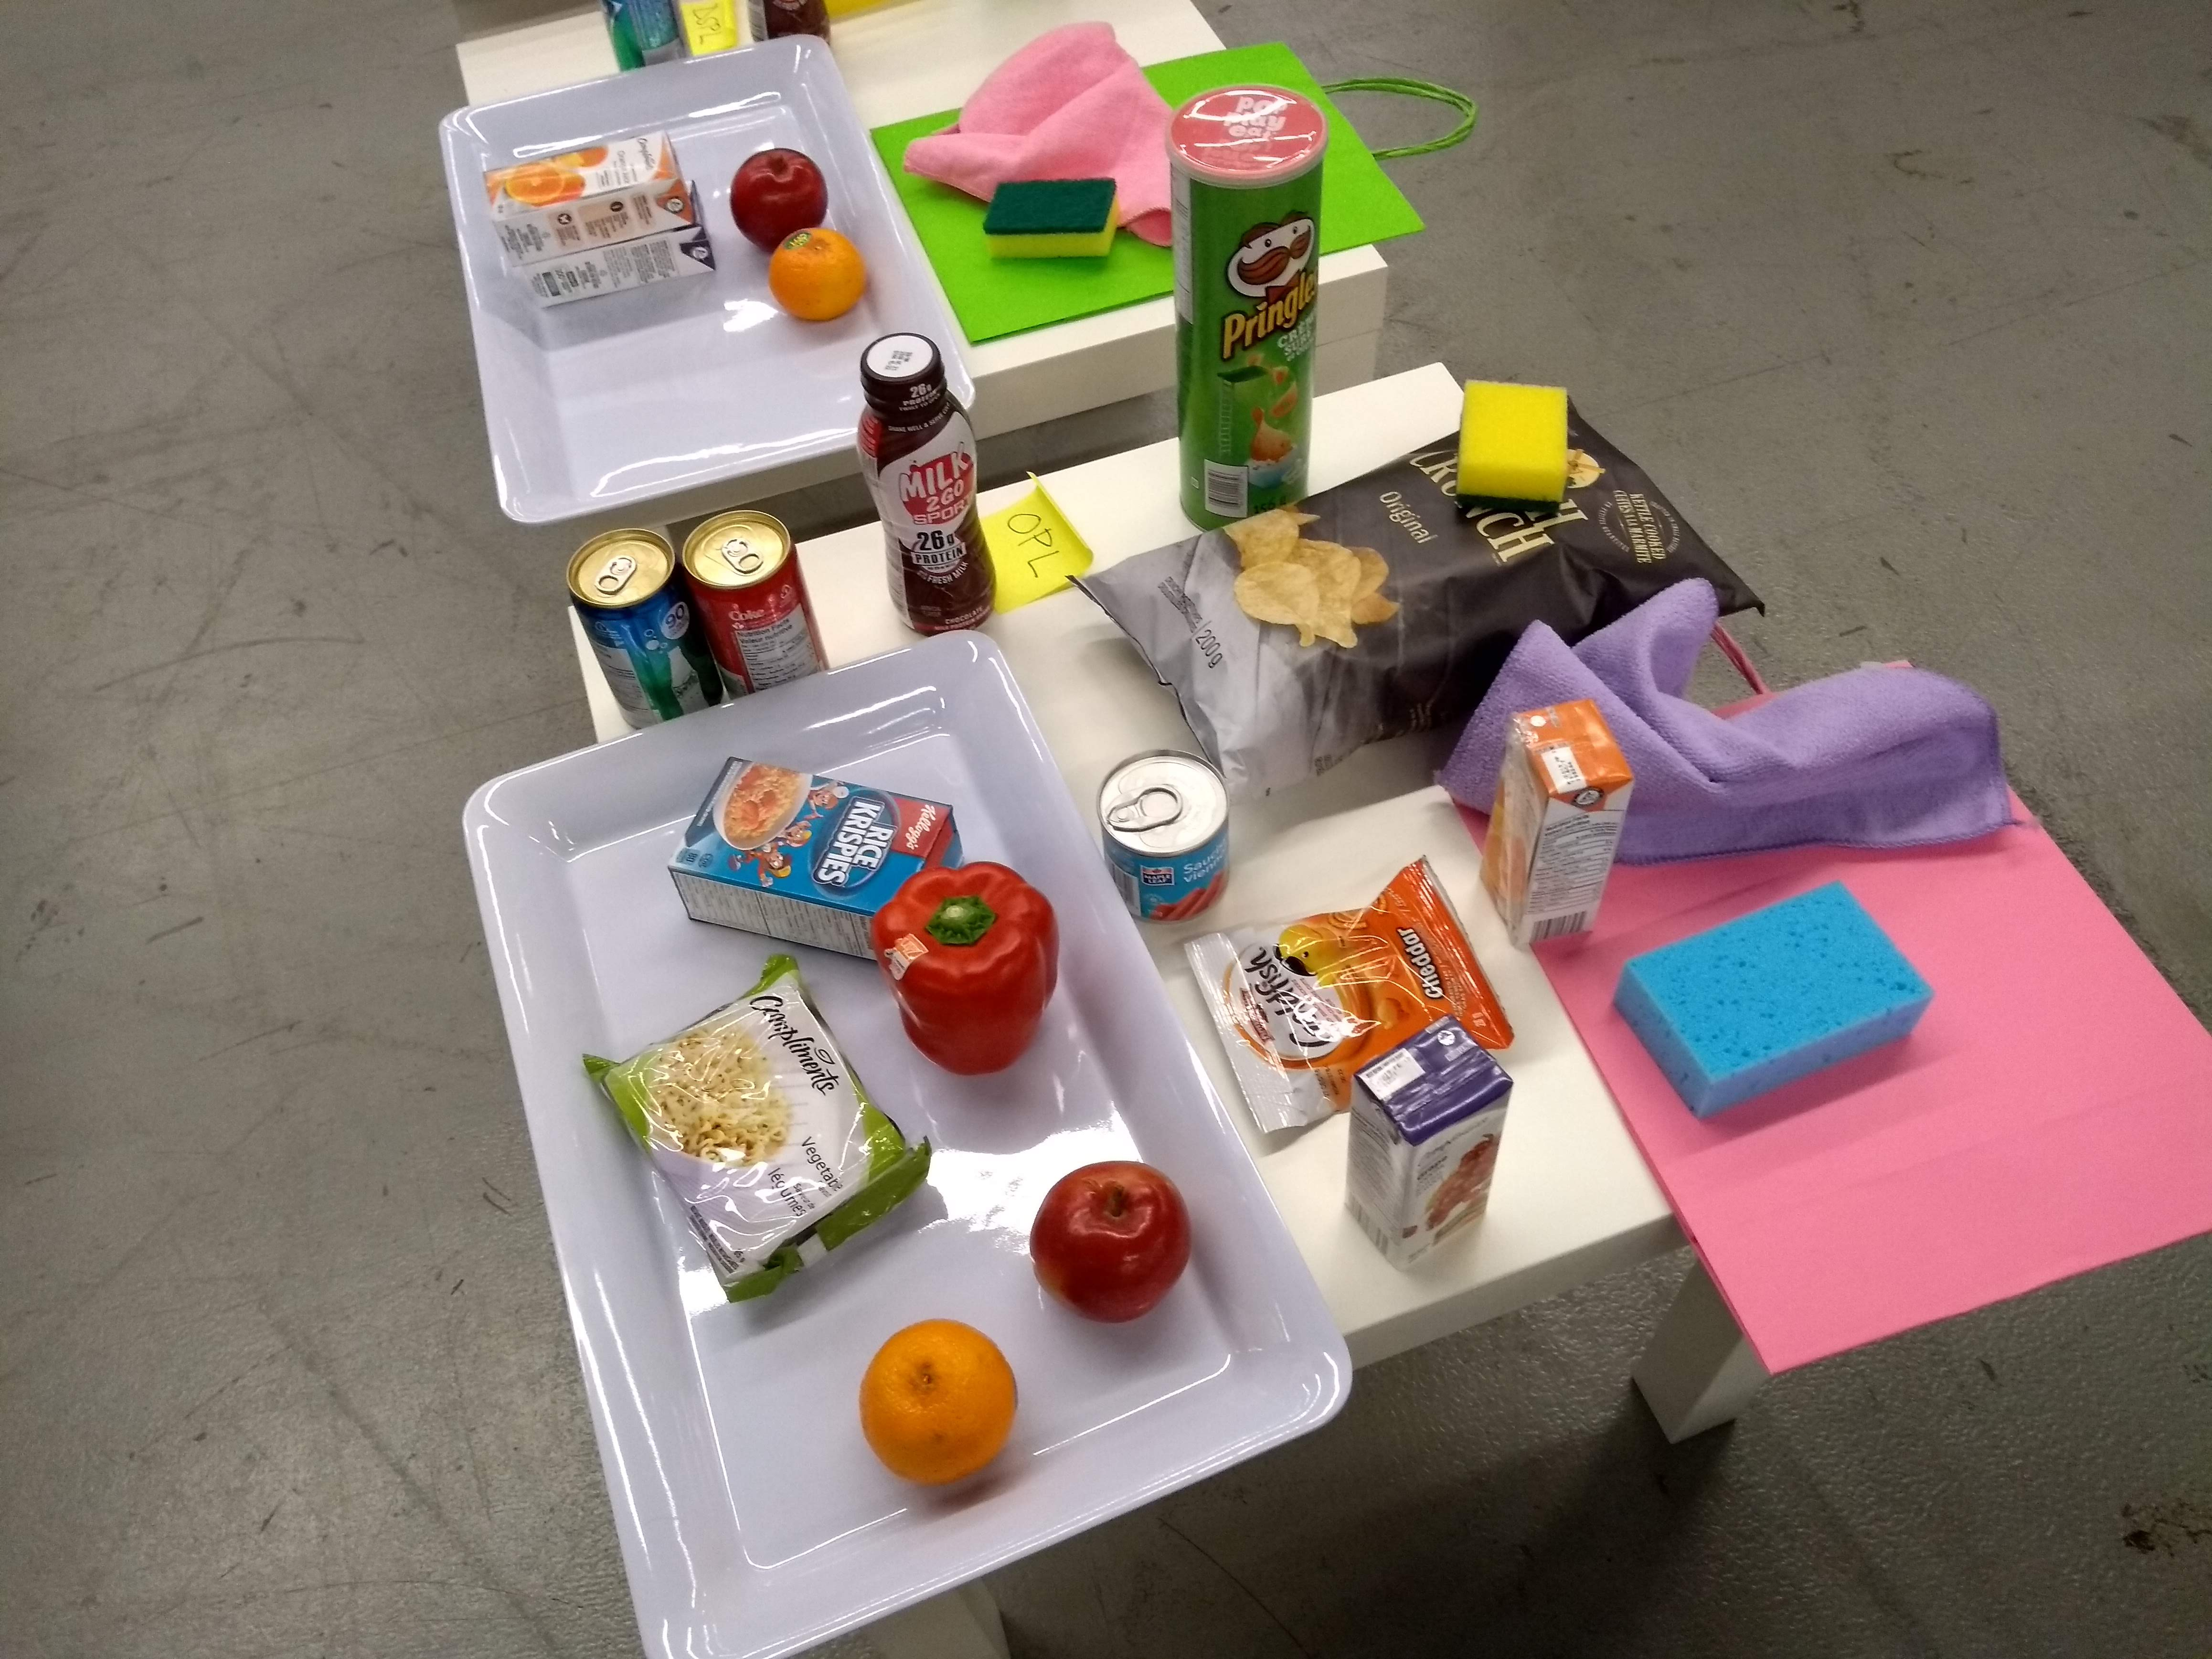apple: (1028, 1159, 1197, 1330), (725, 138, 840, 258)
cereal: (662, 751, 970, 969)
chocolate_drink: (845, 329, 1012, 645)
coke: (683, 504, 840, 709)
crackers: (1179, 852, 1521, 1147)
grape_juice: (1332, 1016, 1519, 1276)
noodles: (580, 939, 932, 1314)
orange: (481, 120, 702, 279), (850, 1305, 1028, 1493), (763, 218, 876, 331)
orange_juice: (1463, 695, 1637, 955)
paprika: (869, 854, 1069, 1082)
pringles: (1163, 77, 1338, 544)
sausages: (1089, 748, 1240, 920)
scrubby: (1439, 364, 1592, 512), (975, 173, 1125, 270)
sponge_opl: (1606, 864, 1937, 1117)
sprite: (559, 523, 733, 741)
